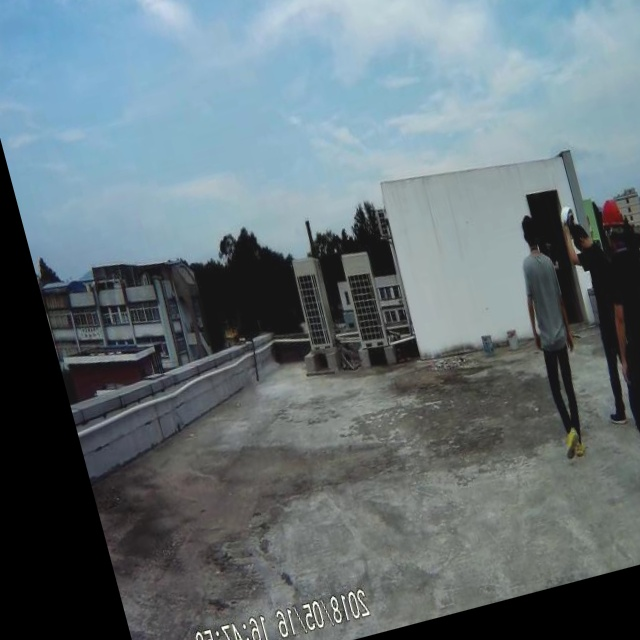Sin_Chaleco: (518, 249, 574, 350)
